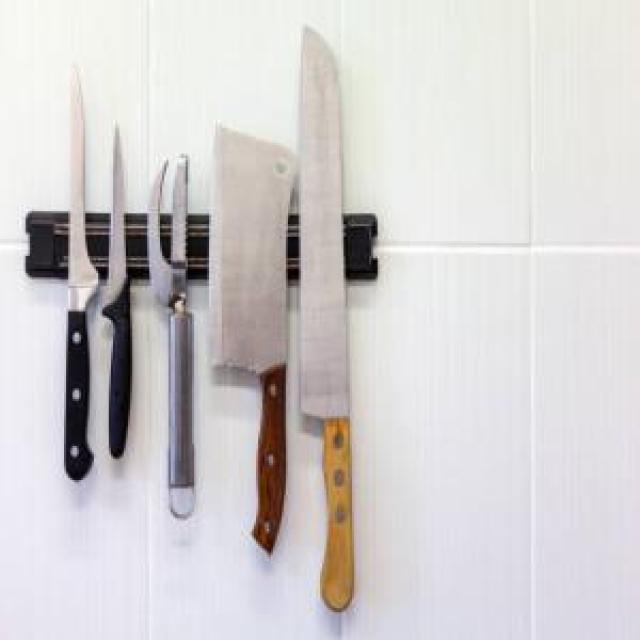knife: (209, 120, 301, 561), (299, 21, 355, 618), (147, 149, 192, 525), (64, 58, 102, 483), (102, 124, 134, 461)
